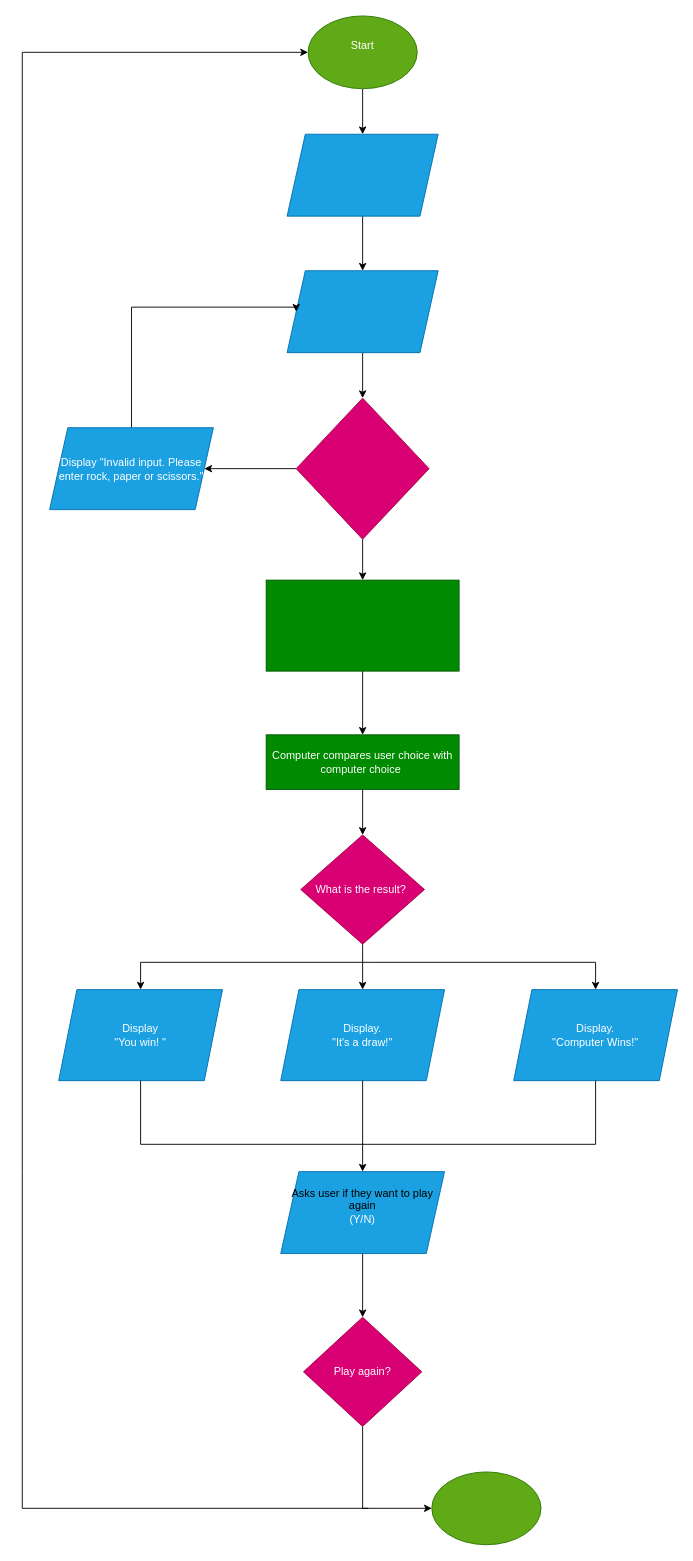
Some shapes in this 693 by 1561 pixel diagram are drawn without their labels. The box of each missing label's shape, as (x1, y1, x2, y2) in pixels:
Computer randomly selects rock, paper, or scissors: (265, 579, 459, 671)
Displays welcome message and asks user to enter rock, paper or scissors?: (286, 133, 438, 216)
END: (431, 1471, 541, 1545)
Is the input valid?: (295, 397, 429, 539)
Reads user input: (286, 270, 438, 353)
